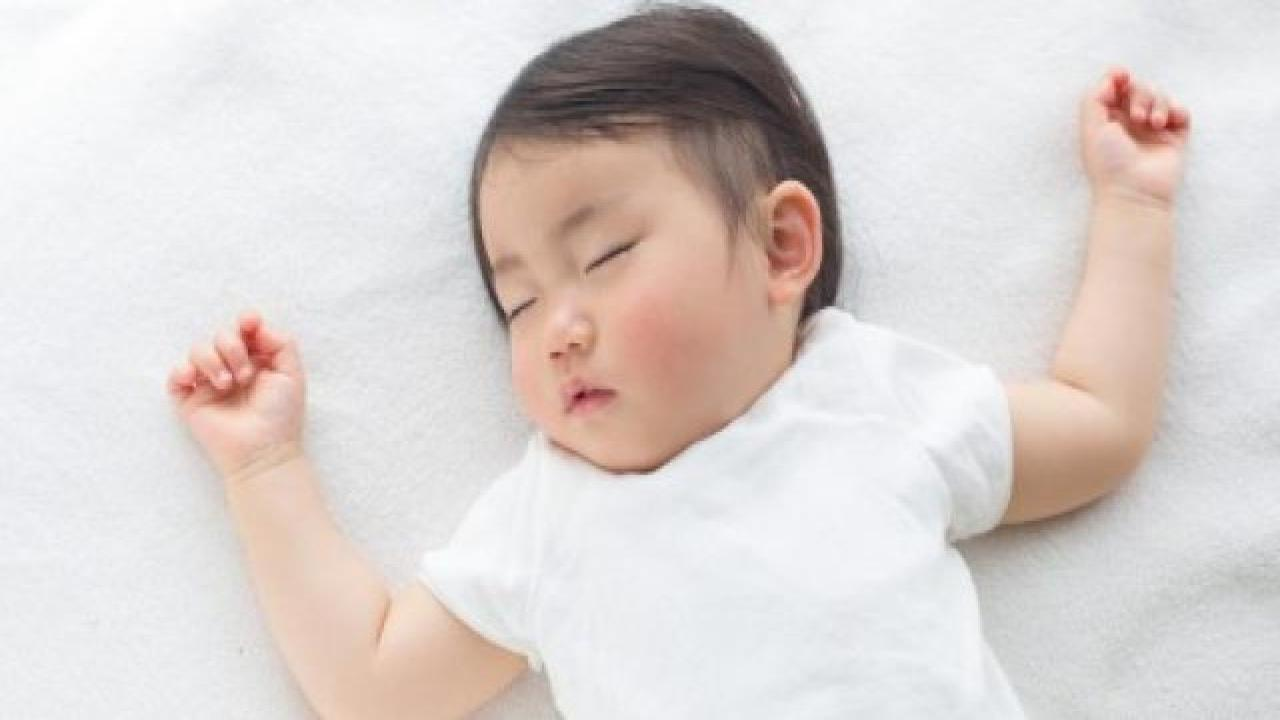hand: (168, 313, 312, 464), (1069, 66, 1197, 202)
